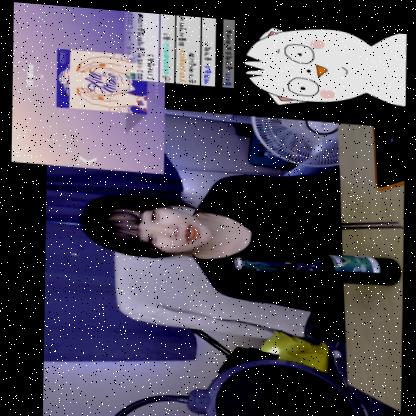streamer: (81, 143, 347, 311)
